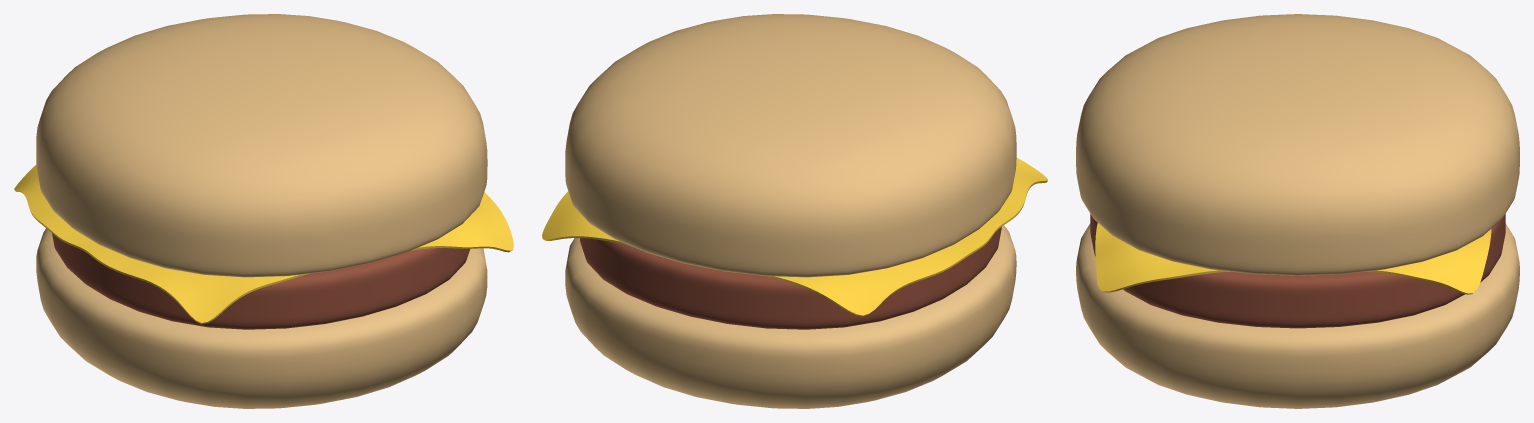
Rendered from hamburger.glb.
The picture shows the model from 3 angles, left to right: view 1: azimuth 30°, elevation 25°; view 2: azimuth 150°, elevation 25°; view 3: azimuth 270°, elevation 25°; orthographic projection.
Visible parts, largest first — view 1: Cube.002, Cube, Cube.001, Plane; view 2: Cube.002, Cube, Cube.001, Plane; view 3: Cube.002, Cube, Cube.001, Plane.
Boxes of the visible parts, box(x1,y1,x2,y2) form: Cube.002: box(36, 14, 487, 277); Cube: box(36, 228, 487, 408); Cube.001: box(52, 233, 469, 329); Plane: box(14, 164, 513, 324); Cube.002: box(565, 14, 1016, 277); Cube: box(565, 225, 1016, 408); Cube.001: box(580, 227, 1001, 329); Plane: box(542, 157, 1047, 316); Cube.002: box(1076, 14, 1519, 275); Cube: box(1076, 223, 1519, 408); Cube.001: box(1090, 214, 1505, 328); Plane: box(1095, 223, 1491, 294).
Size of the model in its own units: 9.26 by 6.53 by 9.11.
